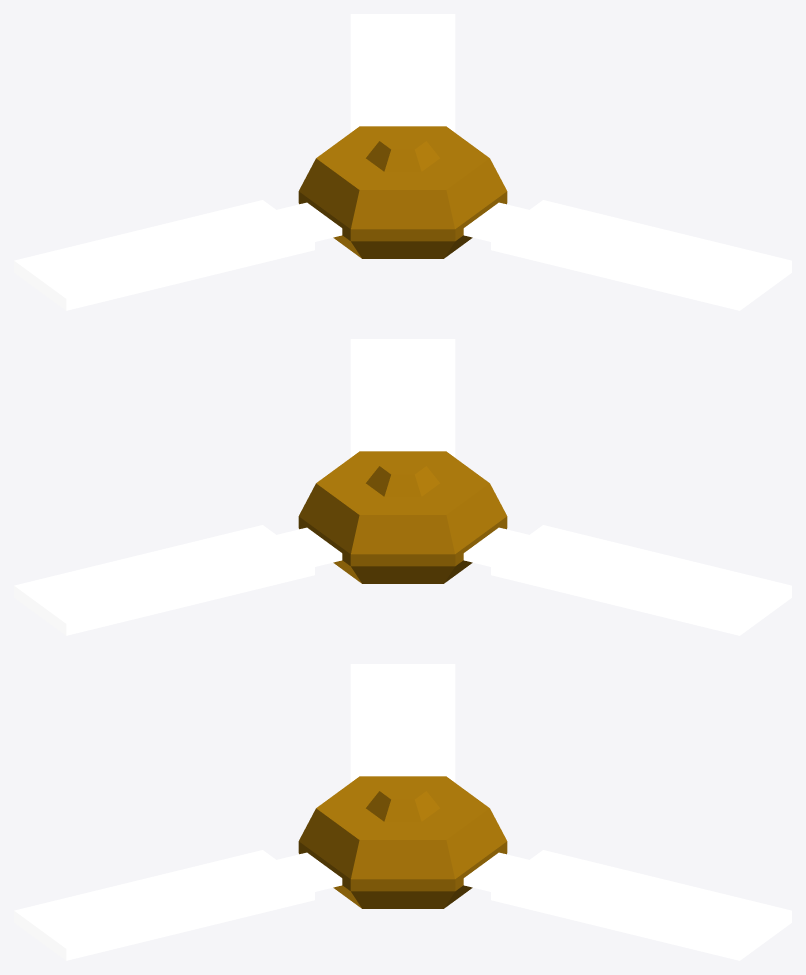
File: ceilingfan_anim.gltf
3 renders of one model, top to bottom at view 1: azimuth 30°, elevation 25°; view 2: azimuth 150°, elevation 25°; view 3: azimuth 270°, elevation 25°, orthographic.
Parts seen in each view (by area): view 1: ceilingFan1; view 2: ceilingFan1; view 3: ceilingFan1.
Boxes of the visible parts, bbox=[...] form: ceilingFan1: bbox=[14, 14, 791, 310]; ceilingFan1: bbox=[14, 339, 791, 635]; ceilingFan1: bbox=[14, 664, 791, 960].
Bounding box in the file's own units: 1.59 × 0.2674 × 1.84.
